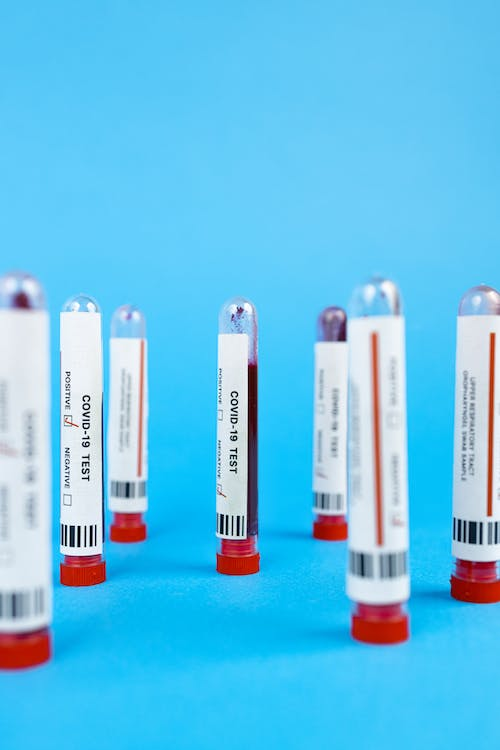blood: (214, 297, 261, 537), (0, 269, 50, 312), (310, 303, 348, 343)
